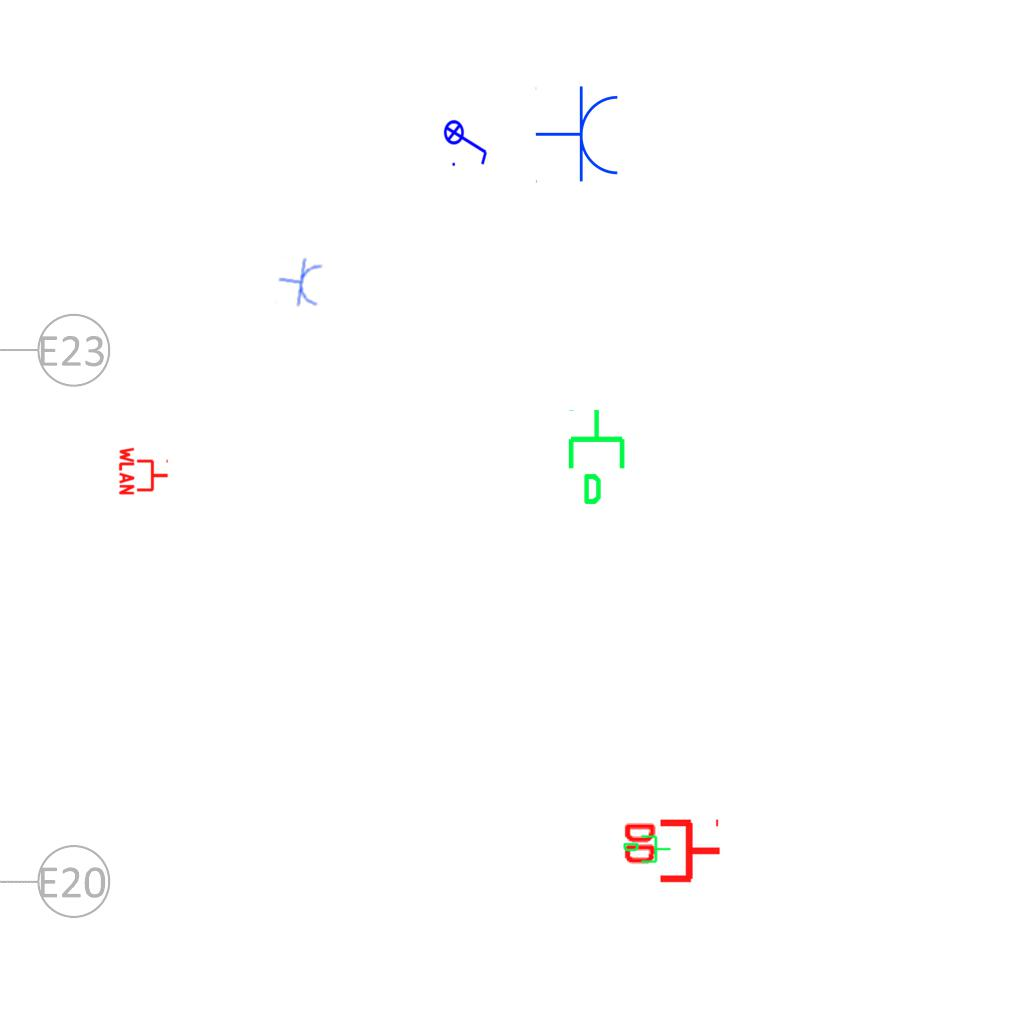Ausschalter_beleuchtet: (443, 113, 491, 169)
Datenanschluss_einfach: (564, 407, 633, 507), (622, 833, 672, 867)
Datenanschluss_zweifach: (620, 818, 723, 887)
Schukosteckdose_einfach: (535, 85, 622, 185), (275, 254, 325, 311)
WLAN: (118, 445, 170, 497)
